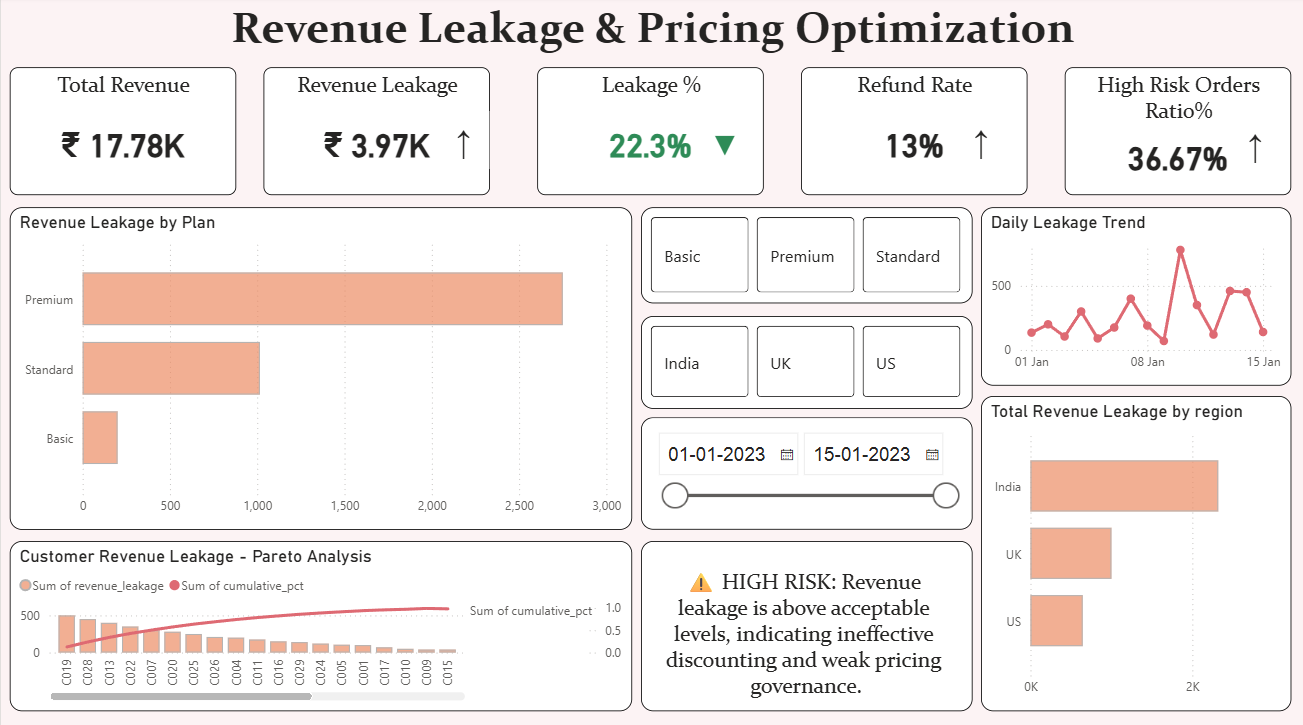

What the dashboard file says about the page in this screenshot:
{"tool":"powerbi","page":{"name":"Page 1","canvas":[1280,720],"ordinal":0},"visuals":[{"type":"card","title":"Total Revenue","fields":{"Values":["customer_leakage_pareto.Total Revenue"]},"box":[8.6,70,222.2,125.2],"z":0},{"type":"card","title":"Revenue Leakage","fields":{"Values":["customer_leakage_pareto.Total Revenue Leakage"]},"box":[257.8,70,222.2,125.2],"z":1000},{"type":"card","title":"Leakage %","fields":{"Values":["customer_leakage_pareto.Leakage %"]},"box":[526.6,70,222.2,125.2],"z":2000},{"type":"card","title":"Refund Rate","fields":{"Values":["customer_leakage_pareto.Refund Rate"]},"box":[785.6,70,222.2,125.2],"z":3000},{"type":"card","title":"High Risk Orders Ratio%","fields":{"Values":["customer_leakage_pareto.High Risk Orders %"]},"box":[1044.6,70,222.2,125.2],"z":4000},{"type":"textbox","box":[0,0,1280.2,70],"z":5000},{"type":"lineChart","title":" Daily Leakage Trend","fields":{"Y":["customer_leakage_pareto.Total Revenue Leakage"],"Category":["revenue_transactions.order_date.Variation.Date Hierarchy.Day"]},"box":[962.3,207.4,304.4,175.5],"z":6000},{"type":"clusteredBarChart","title":"Revenue Leakage by Plan","fields":{"Category":["leakage_by_plan.plan"],"Y":["customer_leakage_pareto.Total Revenue Leakage"]},"box":[8.6,207.4,611.3,316.7],"z":7000},{"type":"clusteredBarChart","fields":{"Category":["revenue_transactions.region"],"Y":["customer_leakage_pareto.Total Revenue Leakage"]},"box":[962.3,392.8,304.4,309.3],"z":8000},{"type":"lineStackedColumnComboChart","title":"Customer Revenue Leakage - Pareto Analysis","fields":{"Category":["revenue_transactions.customer_id"],"Y":["Sum(customer_leakage_pareto.revenue_leakage)"],"Y2":["Sum(customer_leakage_pareto.cumulative_pct)"]},"box":[8.6,535.2,611.3,166.9],"z":9000},{"type":"advancedSlicerVisual","fields":{"Values":["revenue_transactions.region"]},"box":[628.5,314.2,325.3,90.8],"z":10000},{"type":"advancedSlicerVisual","fields":{"Values":["leakage_by_plan.plan"]},"box":[628.5,207.4,325.3,94.5],"z":11000},{"type":"card","fields":{"Values":["customer_leakage_pareto.Overall Revenue Leakage Insight"]},"box":[628.5,535.2,325.3,166.9],"z":12000},{"type":"slicer","fields":{"Values":["Calendar.Date"]},"box":[628.5,413.7,325.3,110.5],"z":13000},{"type":"card","fields":{"Values":["Calendar.Leakage Trend Icon"]},"box":[683.7,132.6,54,45.4],"z":14000},{"type":"card","fields":{"Values":["customer_leakage_pareto.Refund Indicator"]},"box":[931.6,112.9,61.4,56.5],"z":15000},{"type":"card","fields":{"Values":["customer_leakage_pareto.HROR Indicator"]},"box":[1205.4,112.9,52.8,65.1],"z":16000},{"type":"card","fields":{"Values":["customer_leakage_pareto.Revenue Indicator"]},"box":[428.4,112.9,51.6,56.5],"z":17000}]}

Visuals, with their boxes in screenshot pixels (x1, y1, x2, y2), scaled from the page's 1280x720 canvas onto the 1303x725 screenshot:
"Total Revenue" card: bbox=(9, 70, 235, 197)
"Revenue Leakage" card: bbox=(262, 70, 489, 197)
"Leakage %" card: bbox=(536, 70, 762, 197)
"Refund Rate" card: bbox=(800, 70, 1026, 197)
"High Risk Orders Ratio%" card: bbox=(1063, 70, 1290, 197)
textbox: bbox=(0, 0, 1302, 70)
" Daily Leakage Trend" lineChart: bbox=(980, 209, 1289, 386)
"Revenue Leakage by Plan" clusteredBarChart: bbox=(9, 209, 631, 528)
clusteredBarChart - revenue_transactions.region x customer_leakage_pareto.Total Revenue Leakage: bbox=(980, 396, 1289, 707)
"Customer Revenue Leakage - Pareto Analysis" lineStackedColumnComboChart: bbox=(9, 539, 631, 707)
advancedSlicerVisual - revenue_transactions.region: bbox=(640, 316, 971, 408)
advancedSlicerVisual - leakage_by_plan.plan: bbox=(640, 209, 971, 304)
card - customer_leakage_pareto.Overall Revenue Leakage Insight: bbox=(640, 539, 971, 707)
slicer - Calendar.Date: bbox=(640, 417, 971, 528)
card - Calendar.Leakage Trend Icon: bbox=(696, 134, 751, 179)
card - customer_leakage_pareto.Refund Indicator: bbox=(948, 114, 1011, 171)
card - customer_leakage_pareto.HROR Indicator: bbox=(1227, 114, 1281, 179)
card - customer_leakage_pareto.Revenue Indicator: bbox=(436, 114, 489, 171)
